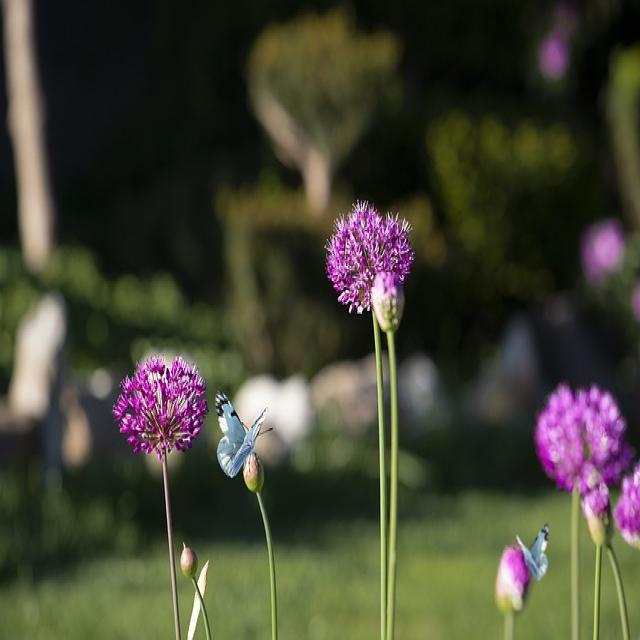butterfly: (215, 392, 271, 479), (516, 524, 549, 583)
